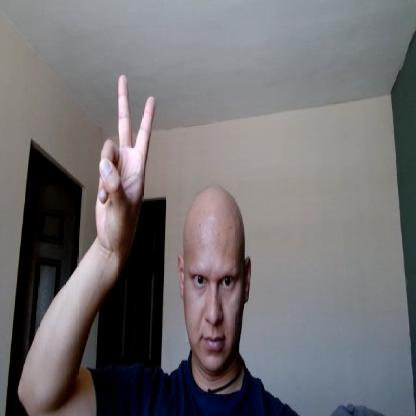V: (94, 72, 158, 251)
